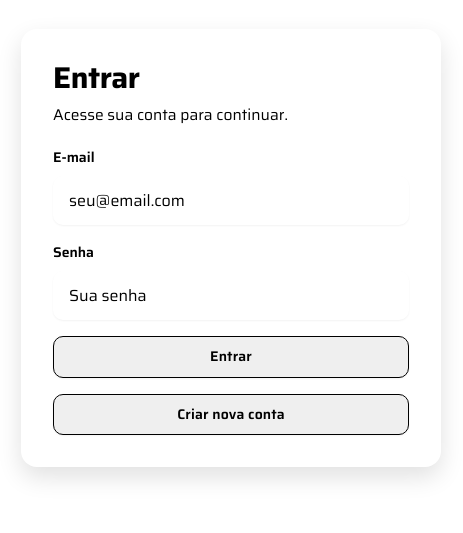
Test: Login page integration › suporta fluxo de cadastro com mensagem de sucesso
Click the button "Criar nova conta".
click(231, 414)  # box [53,394,409,435]
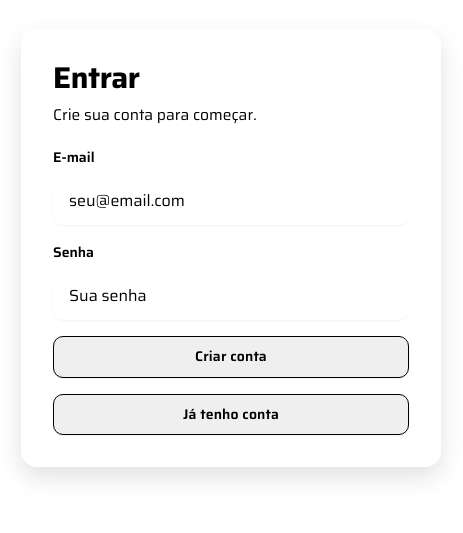
Type "new@test.com" into the field labelled "E-mail".
click(231, 201); type("new@test.com")  # box [53,176,409,225]
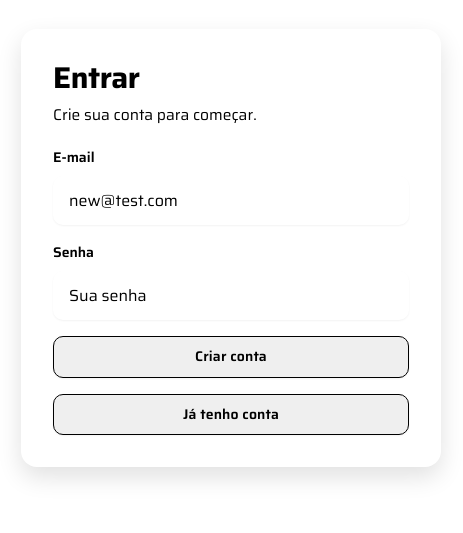
Type "abc123" into the password field labelled "Senha".
click(231, 296); type("abc123")  # box [53,271,409,320]
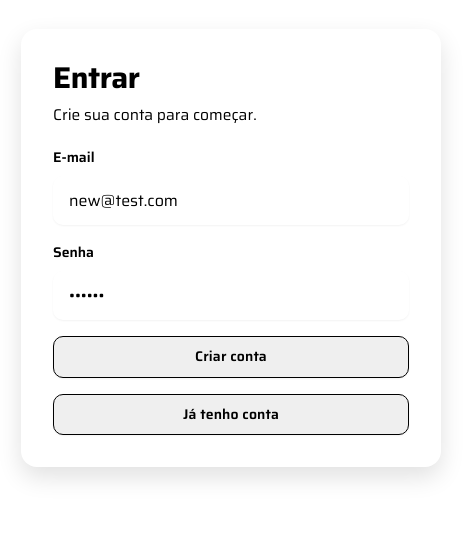
Click the button "Criar conta".
click(231, 357)  # box [53,336,409,378]
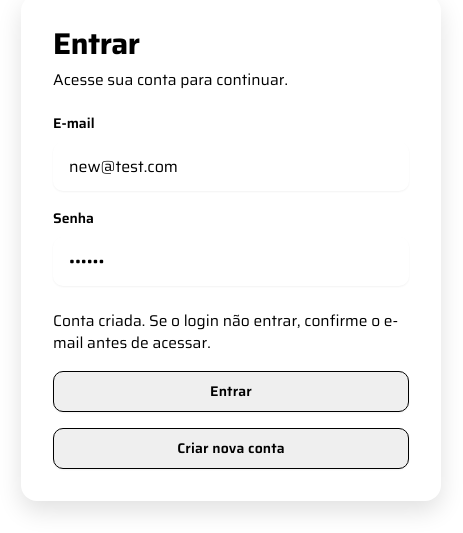
Now the text "Conta criada. Se o login não entrar, confirme o e-mail antes de acessar." is shown, box [53,310,409,355]
